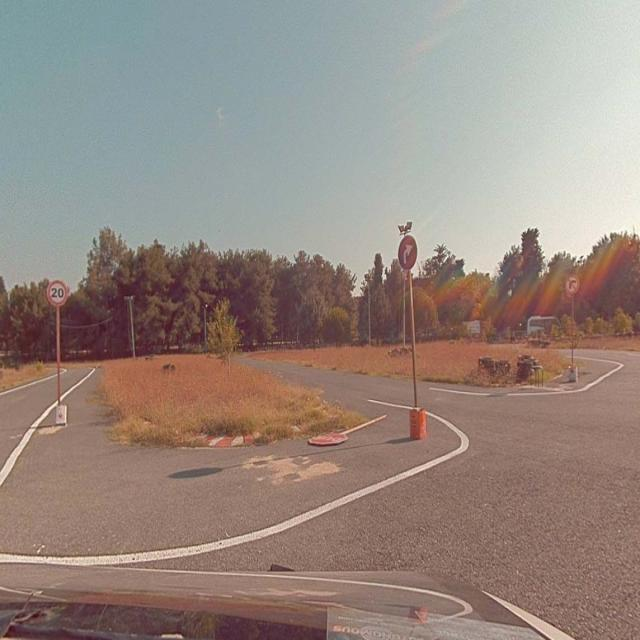20: (48, 280, 66, 306)
sag: (398, 236, 417, 268)
sagadonulmez: (565, 274, 579, 294)
